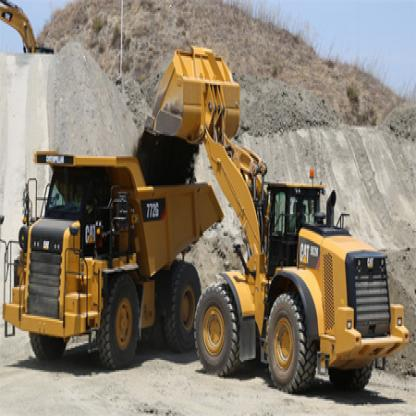bull_dozer/loader/grader: (143, 37, 412, 398)
dump_truck: (3, 142, 214, 390)
